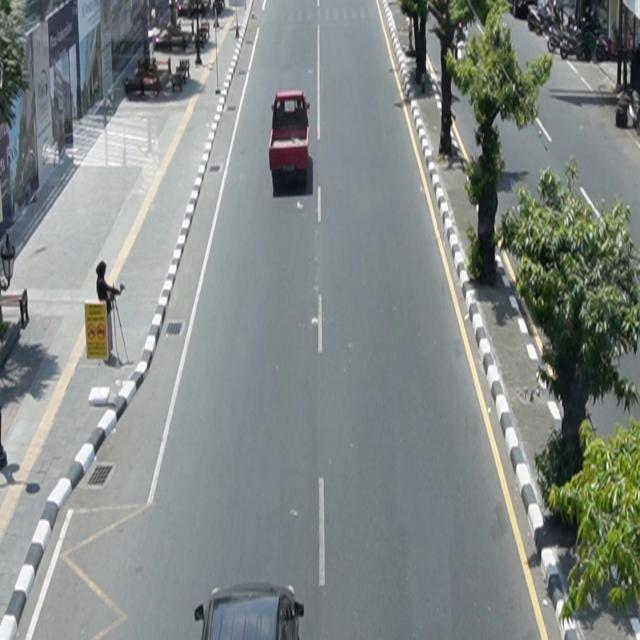car: (195, 583, 305, 640), (269, 90, 311, 186)
